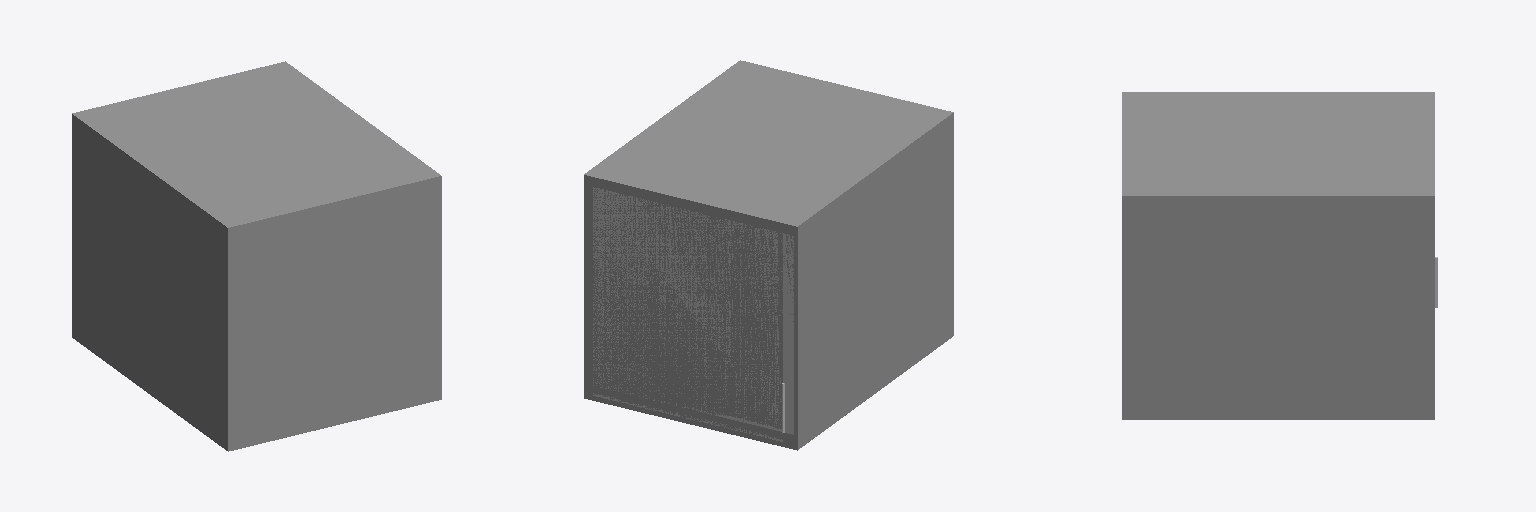
File: zom_room_barn.obj
3 views of the same model, side by side, from view 1: azimuth 30°, elevation 25°; view 2: azimuth 150°, elevation 25°; view 3: azimuth 270°, elevation 25° (orthographic).
Visible parts, largest first — view 1: g_contblock, s_shadow; view 2: g_contblock, c_box_001, s_shadow, c_box_011; view 3: s_shadow, g_contblock.
Boxes of the visible parts, <box> form: g_contblock: <box>72,63,441,451</box>; s_shadow: <box>91,61,440,182</box>; g_contblock: <box>584,61,953,450</box>; c_box_001: <box>593,187,782,425</box>; s_shadow: <box>585,60,885,225</box>; c_box_011: <box>783,233,793,434</box>; s_shadow: <box>1122,94,1434,414</box>; g_contblock: <box>1122,92,1434,419</box>.
Size of the model in its own units: 450 by 450 by 576.